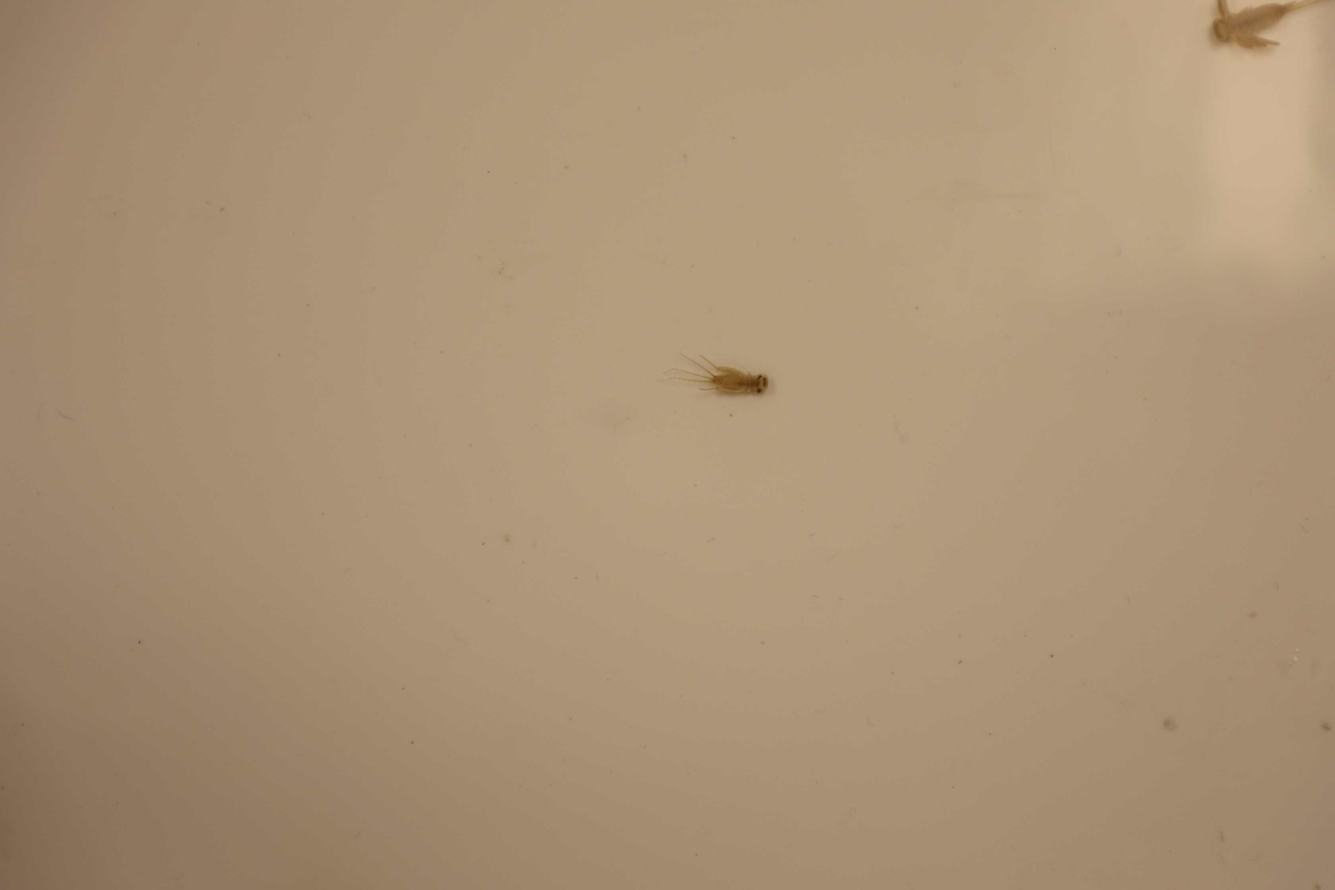Mayfly: (1204, 0, 1315, 59), (663, 350, 776, 399)
